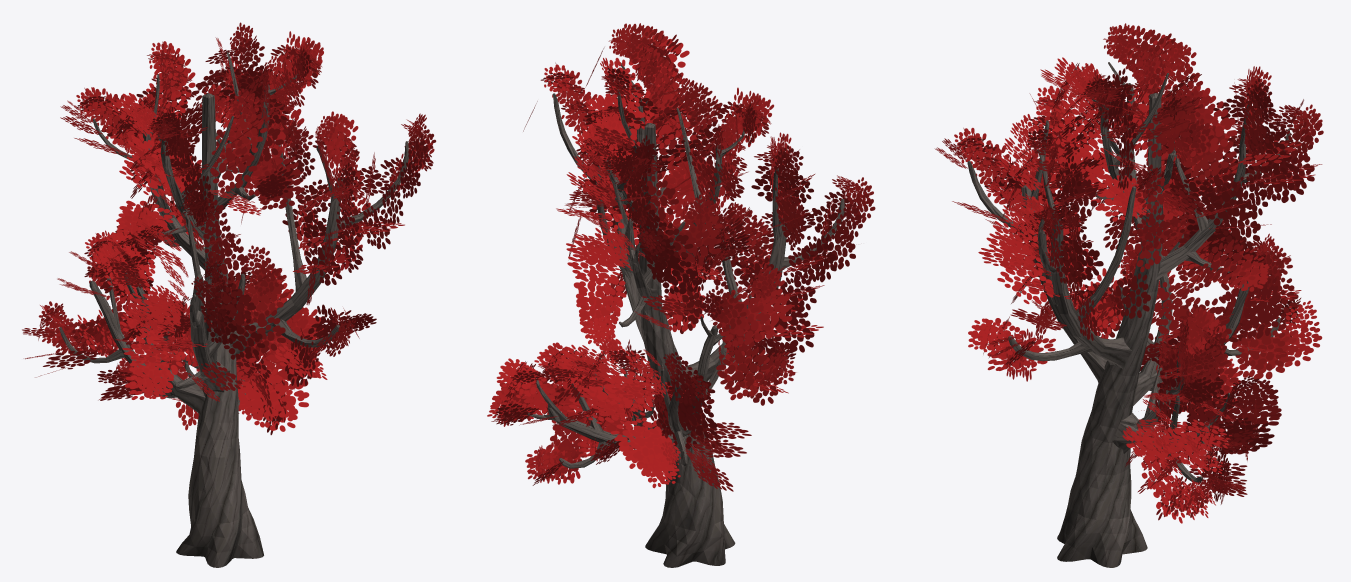
Rendered from twisted-tree.glb.
3 renders of one model, left to right at view 1: azimuth 30°, elevation 25°; view 2: azimuth 150°, elevation 25°; view 3: azimuth 270°, elevation 25°, orthographic. The views are drawn at different scales.
Visible parts, largest first — view 1: TwistedTree_3; view 2: TwistedTree_3; view 3: TwistedTree_3.
Boxes of the visible parts, x1=… form: TwistedTree_3: x1=22, y1=22, x2=436, y2=567; TwistedTree_3: x1=487, y1=23, x2=875, y2=567; TwistedTree_3: x1=934, y1=23, x2=1323, y2=567.
Bounding box in the file's own units: 11.36 × 16.07 × 11.51.
Materials: 2 (2 with a texture image).
